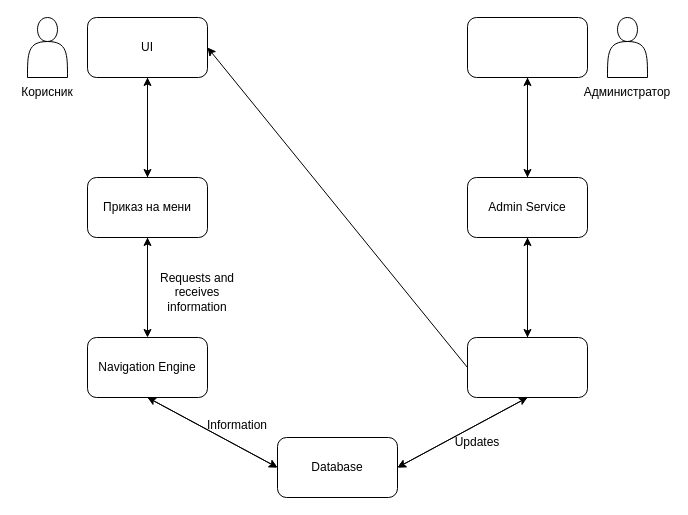
This 688x515 diagram has some shape labels left out. The centre of each missing label's shape, as x and y in pixels:
"Admin Panel" belongs at (527,47).
"Notification Service" belongs at (527,367).
